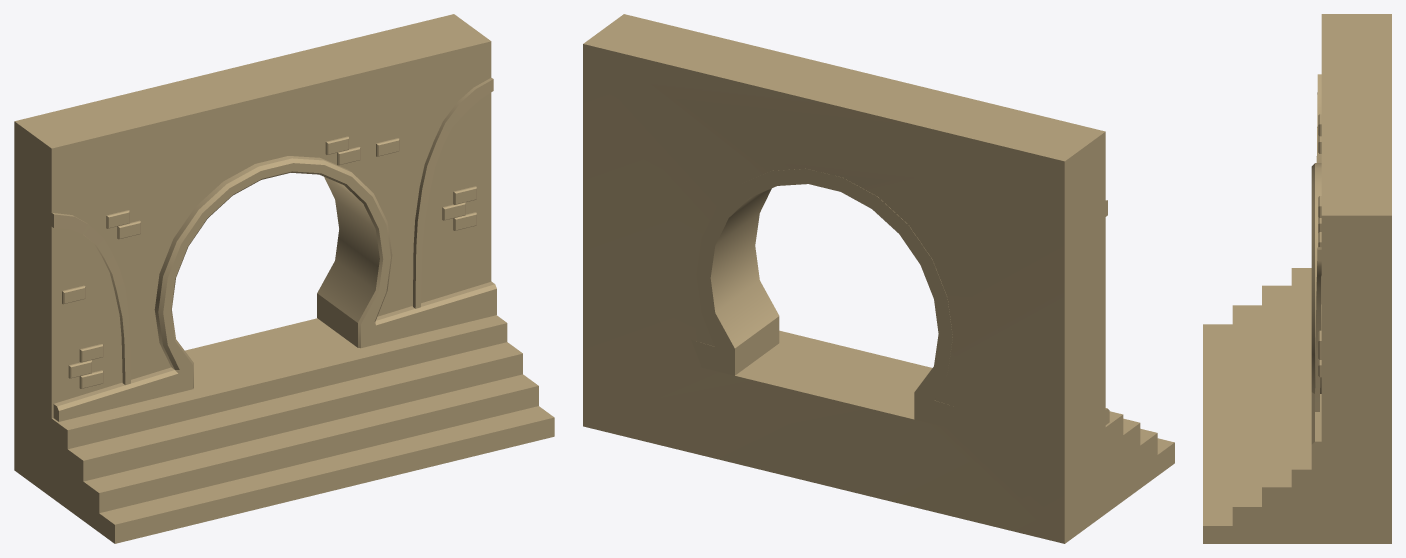
The model's file is Arches-Broken-1.fbx.
3 views of the same model, side by side, from view 1: azimuth 30°, elevation 25°; view 2: azimuth 150°, elevation 25°; view 3: azimuth 270°, elevation 25° (orthographic). The views are drawn at different scales.
Visible parts, largest first — view 1: Arches-Broken-1; view 2: Arches-Broken-1; view 3: Arches-Broken-1.
Part boxes in pixels (<box>): Arches-Broken-1: <box>14,14,554,543</box>; Arches-Broken-1: <box>583,14,1174,543</box>; Arches-Broken-1: <box>1203,14,1391,543</box>.
Size of the model in its own units: 931 by 706 by 368.
